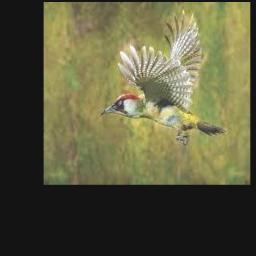Woodpecker: (100, 9, 227, 145)
